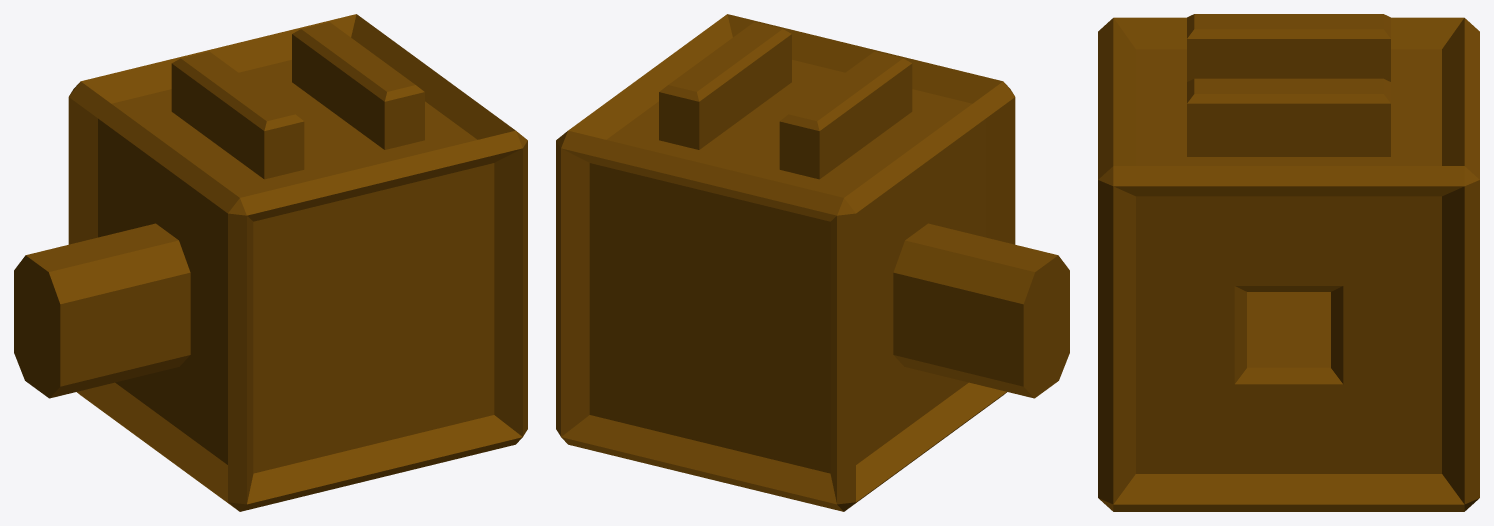
File: station.dae
3 views of the same model, side by side, from view 1: azimuth 30°, elevation 25°; view 2: azimuth 150°, elevation 25°; view 3: azimuth 270°, elevation 25° (orthographic). The views are drawn at different scales.
Parts seen in each view (by area): view 1: Cube; view 2: Cube; view 3: Cube.
Part boxes in pixels (x1,y1,x2,y2): Cube: (14, 14, 527, 511); Cube: (556, 14, 1069, 511); Cube: (1098, 14, 1479, 511).
Size of the model in its own units: 13.95 by 10.18 by 11.29.
